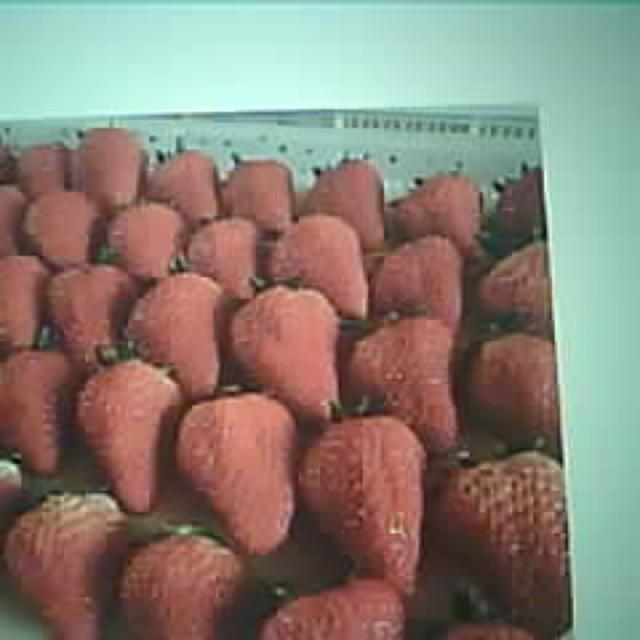strawberry: (446, 449, 572, 621), (306, 416, 426, 586), (180, 391, 304, 555), (4, 492, 122, 640), (232, 284, 348, 420), (78, 360, 178, 512), (129, 273, 235, 399)
